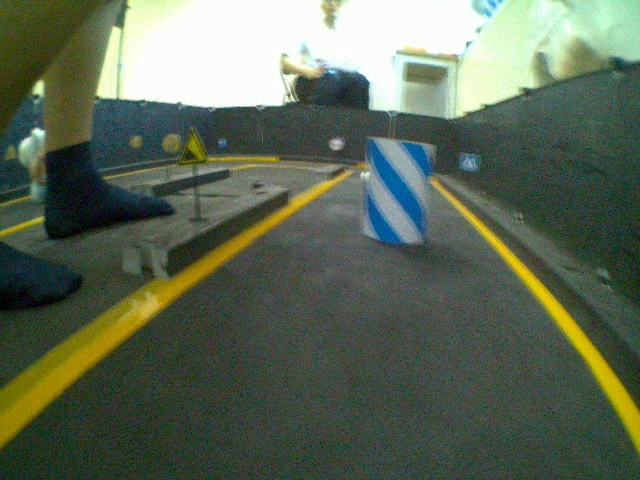bucket: (362, 135, 433, 249)
